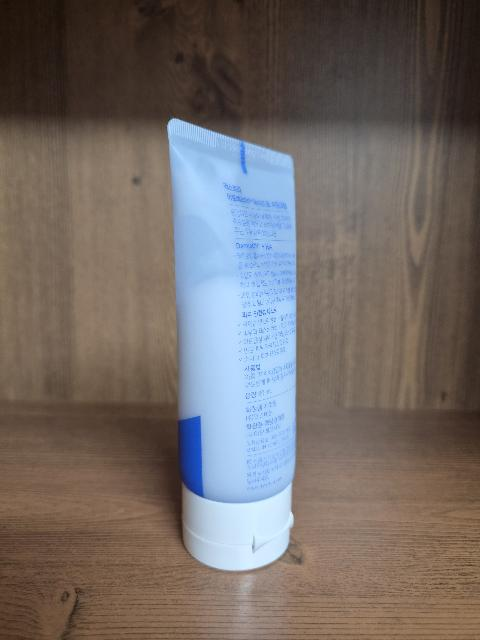handcream: (167, 118, 296, 571)
